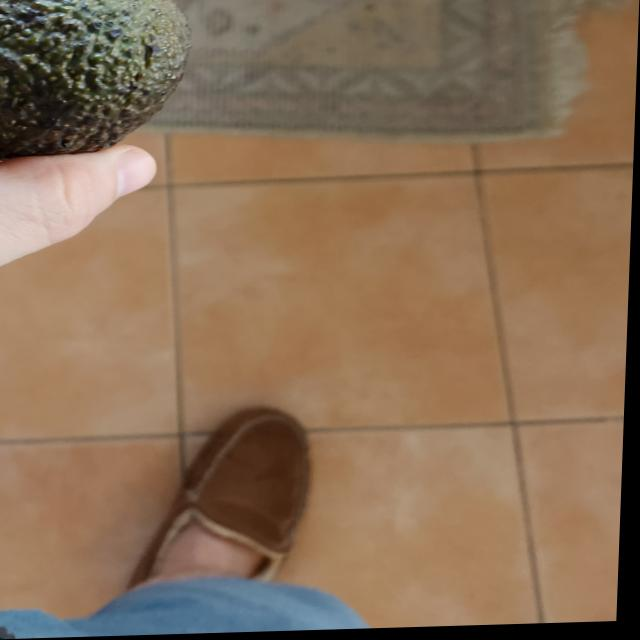avocado: (0, 0, 202, 156)
